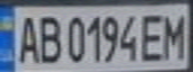0: (63, 11, 84, 63)
1: (84, 11, 103, 63)
4: (118, 10, 142, 63)
9: (100, 11, 121, 63)
A: (12, 11, 42, 65)
B: (33, 11, 63, 64)
E: (139, 10, 169, 62)
M: (160, 9, 190, 61)
